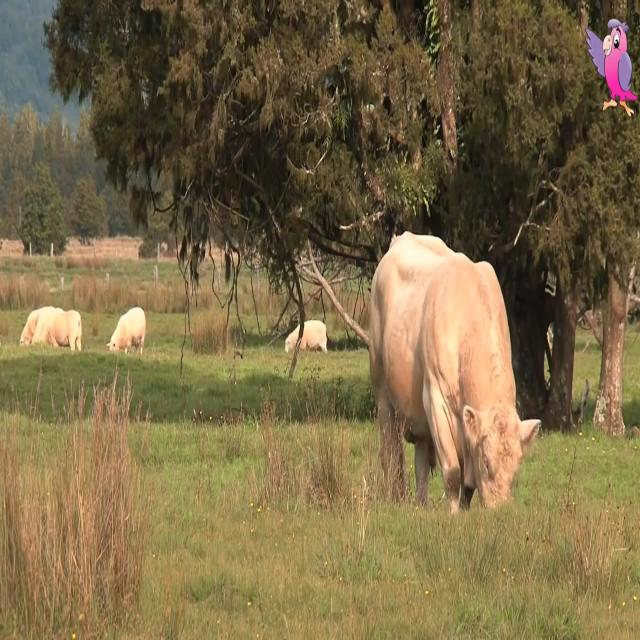cow: (370, 232, 540, 512)
